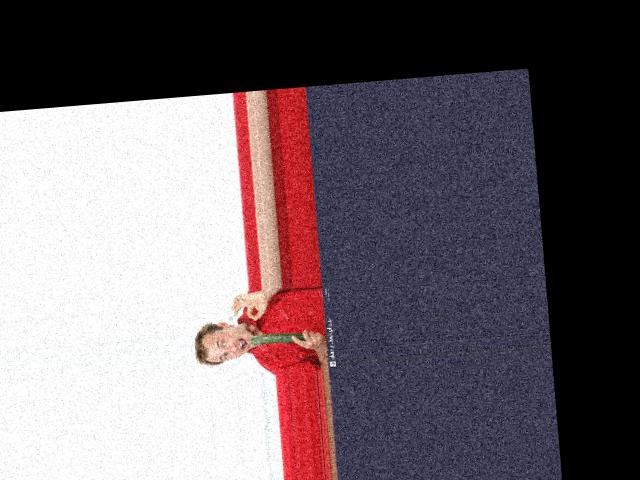cucumber: (249, 332, 304, 344)
